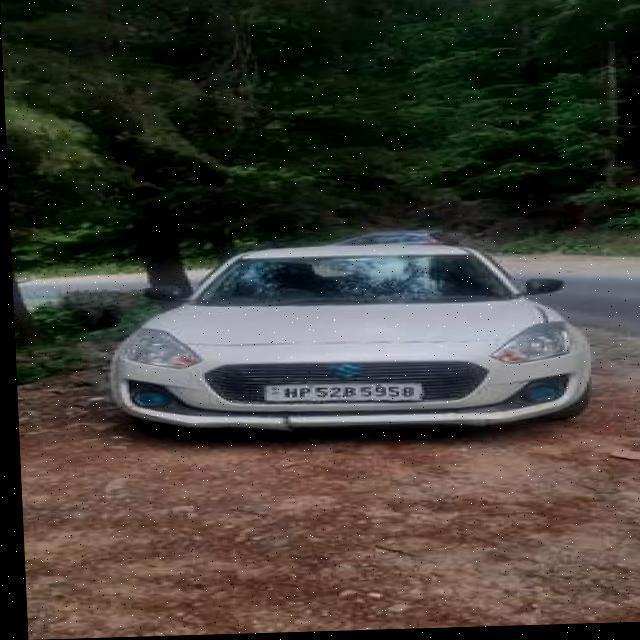plate: (260, 382, 420, 408)
